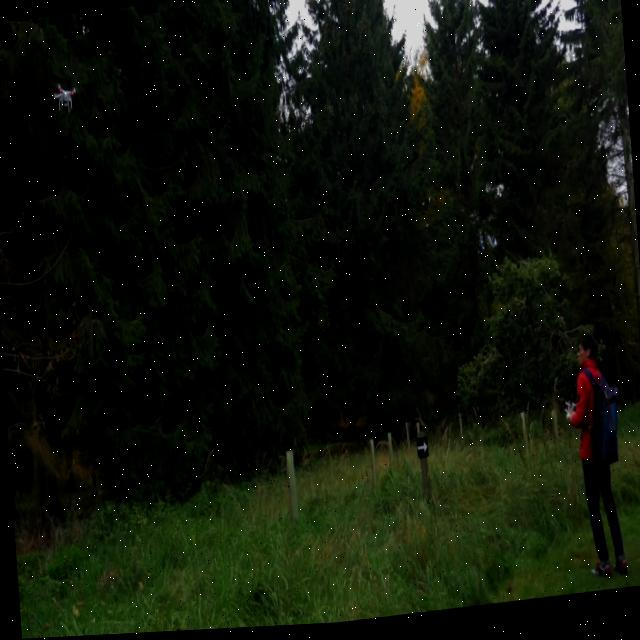drone: (48, 77, 78, 117)
